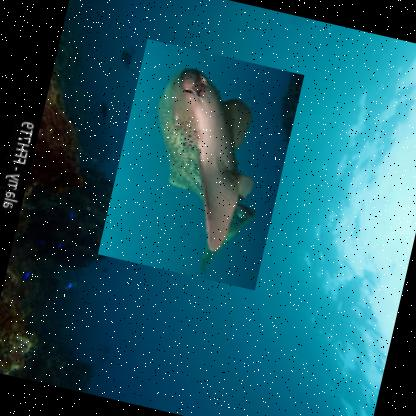zebra_shark: (97, 37, 305, 290)
